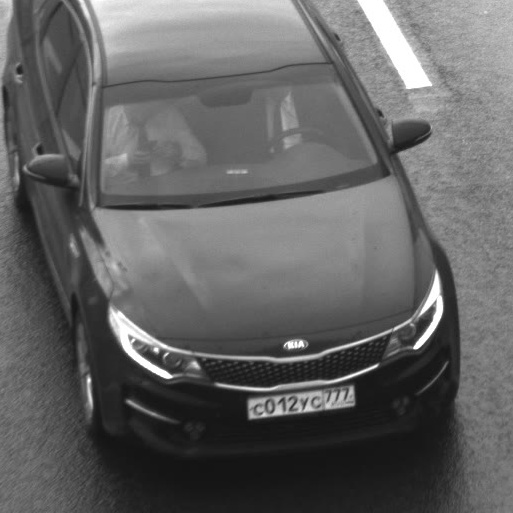plate: (234, 373, 364, 427)
